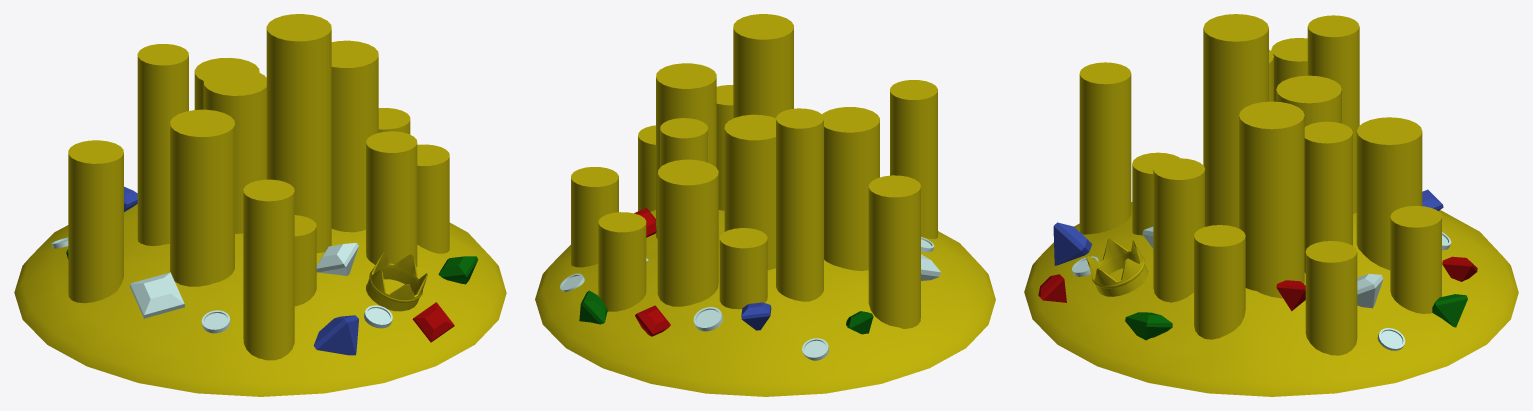
File: SM_TreasurePile_Small.fbx
3 renders of one model, left to right at view 1: azimuth 30°, elevation 25°; view 2: azimuth 150°, elevation 25°; view 3: azimuth 270°, elevation 25°, orthographic. The views are drawn at different scales.
Visible parts, largest first — view 1: group5; view 2: group5; view 3: group5.
Part boxes in pixels (x1,y1,x2,y2): group5: [14, 14, 506, 396]; group5: [535, 14, 995, 396]; group5: [1024, 14, 1518, 396].
Bounding box in the file's own units: 124 × 75.54 × 123.
